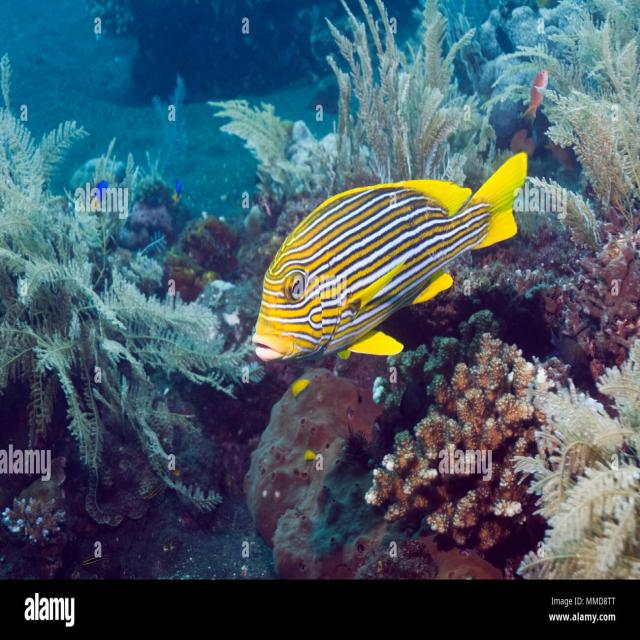RibbonedSweetlips: (251, 149, 528, 365)
